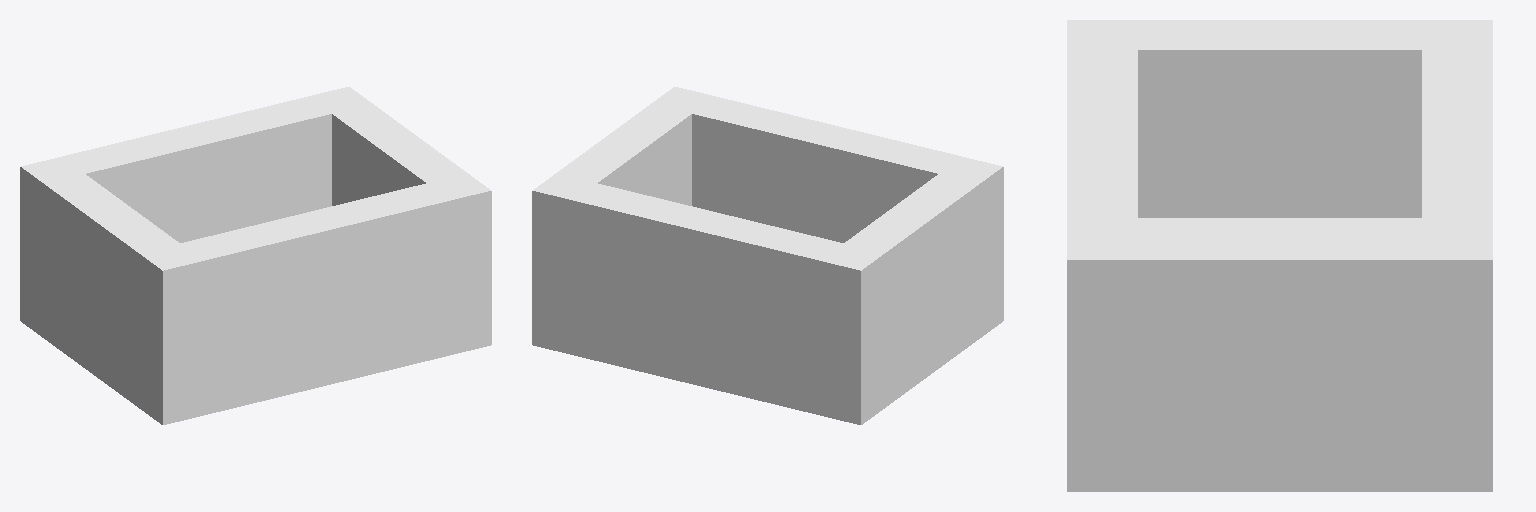
robot.urdf — custom_bin:
<?xml version='1.0' encoding='UTF-8'?>
<robot name="custom_bin">
  <link name="base_link">
    <inertial>
      <origin xyz="0.0000E+00 0.0000E+00 2.5870E-02" rpy="0.0000E+00 0.0000E+00 0.0000E+00"/>
      <mass value="1.0000E+00"/>
      <inertia ixx="1.7570E-04" ixy="-0.0000E+00" ixz="-1.8070E-21" iyy="2.6920E-04" iyz="-0.0000E+00" izz="3.6550E-04"/>
    </inertial>
    <visual>
      <origin xyz="0.0000E+00 0.0000E+00 0.0000E+00" rpy="0.0000E+00 0.0000E+00 0.0000E+00"/>
      <geometry>
        <mesh filename="156c4d9086e940b511426bb41c3c5d73.stl" scale="1.0000E+00 1.0000E+00 1.0000E+00"/>
      </geometry>
      <material name="undefined">
        <color rgba="1.0000E+00 1.0000E+00 1.0000E+00 1.0000E+00"/>
      </material>
    </visual>
    <collision>
      <origin xyz="0.0000E+00 0.0000E+00 -2.5000E-02" rpy="0.0000E+00 0.0000E+00 0.0000E+00"/>
      <geometry>
        <box size="4.0000E-01 3.0000E-01 5.0000E-02"/>
      </geometry>
    </collision>
    <collision>
      <origin xyz="1.7500E-01 0.0000E+00 4.0000E-02" rpy="0.0000E+00 0.0000E+00 0.0000E+00"/>
      <geometry>
        <box size="5.0000E-02 3.0000E-01 1.8000E-01"/>
      </geometry>
    </collision>
    <collision>
      <origin xyz="-1.7500E-01 0.0000E+00 4.0000E-02" rpy="0.0000E+00 0.0000E+00 0.0000E+00"/>
      <geometry>
        <box size="5.0000E-02 3.0000E-01 1.8000E-01"/>
      </geometry>
    </collision>
    <collision>
      <origin xyz="0.0000E+00 1.2500E-01 4.0000E-02" rpy="0.0000E+00 0.0000E+00 0.0000E+00"/>
      <geometry>
        <box size="4.0000E-01 5.0000E-02 1.8000E-01"/>
      </geometry>
    </collision>
    <collision>
      <origin xyz="0.0000E+00 -1.2500E-01 4.0000E-02" rpy="0.0000E+00 0.0000E+00 0.0000E+00"/>
      <geometry>
        <box size="4.0000E-01 5.0000E-02 1.8000E-01"/>
      </geometry>
    </collision>
    <contact>
      <lateral_friction value="7.0000E-01"/>
      <rolling_friction value="1.0000E-03"/>
      <spinning_friction value="1.0000E-02"/>
      <restitution value="0.0000E+00"/>
    </contact>
  </link>
</robot>

--- Render facts (derived) ---
The picture shows the robot from 3 angles, left to right: view 1: azimuth 30°, elevation 25°; view 2: azimuth 150°, elevation 25°; view 3: azimuth 270°, elevation 25°; orthographic projection.
Model custom_bin with 1 links and 0 joints (none), rooted at base_link, posed every joint at zero.
Links seen in each view (by area): view 1: base_link; view 2: base_link; view 3: base_link.
Link boxes in pixels (<box>): base_link: <box>20,87,491,424</box>; base_link: <box>532,87,1003,424</box>; base_link: <box>1067,20,1492,491</box>.
Size in the robot's own frame: 0.4 by 0.3 by 0.18 metres.
Meshes: 1 distinct files referenced, 1 mesh visuals loaded (1 binary STL).